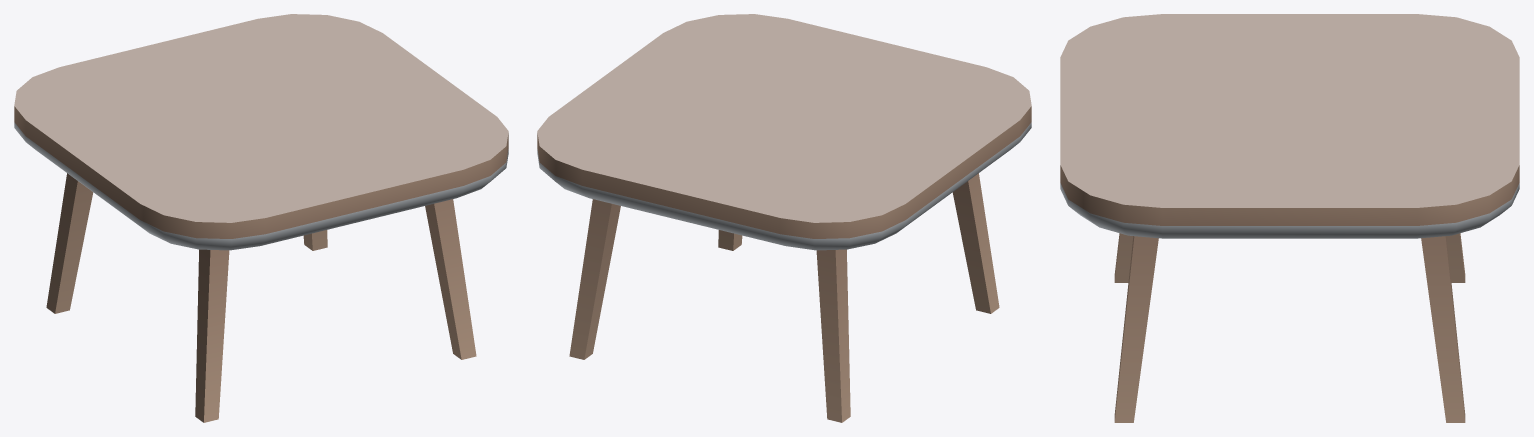
Rendered from table-kitchen-rounded-duo.glb.
3 views of the same model, side by side, from view 1: azimuth 30°, elevation 25°; view 2: azimuth 150°, elevation 25°; view 3: azimuth 270°, elevation 25° (orthographic). The views are drawn at different scales.
Visible parts, largest first — view 1: table-kitchen-rounded-duo; view 2: table-kitchen-rounded-duo; view 3: table-kitchen-rounded-duo.
Boxes of the visible parts, bbox=[...] form: table-kitchen-rounded-duo: bbox=[14, 14, 508, 422]; table-kitchen-rounded-duo: bbox=[537, 14, 1031, 422]; table-kitchen-rounded-duo: bbox=[1060, 14, 1519, 422].
Bounding box in the file's own units: 0.9 × 0.5146 × 0.9.
